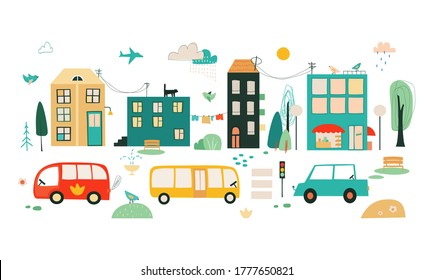building: (305, 70, 370, 150), (51, 66, 107, 147), (125, 93, 193, 149), (225, 57, 262, 148)
car: (148, 165, 242, 205), (31, 161, 114, 205), (292, 163, 370, 204)
